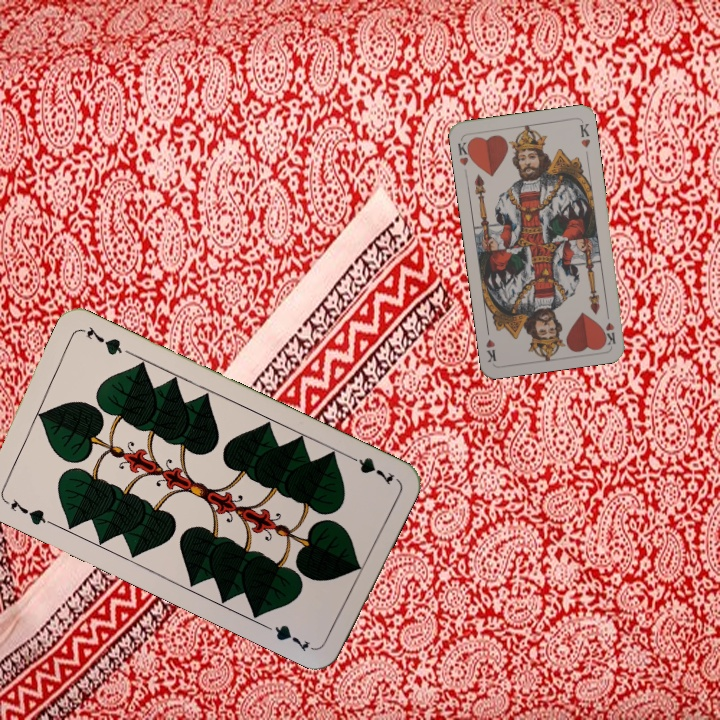G7: (342, 450, 397, 488), (6, 495, 55, 528)
HK: (600, 306, 618, 347), (454, 137, 475, 168)
